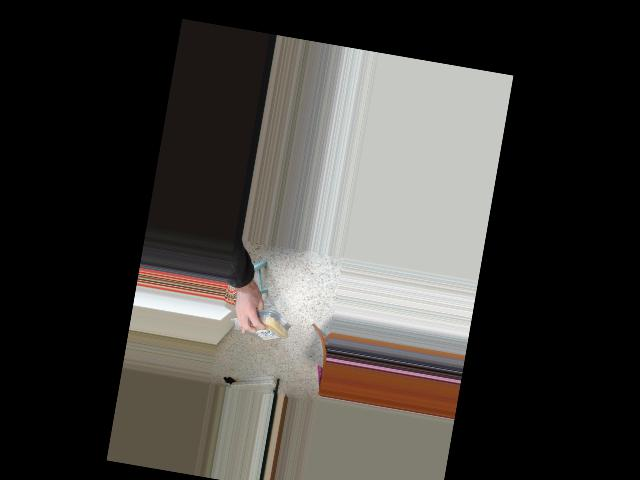cheese: (236, 309, 291, 343)
